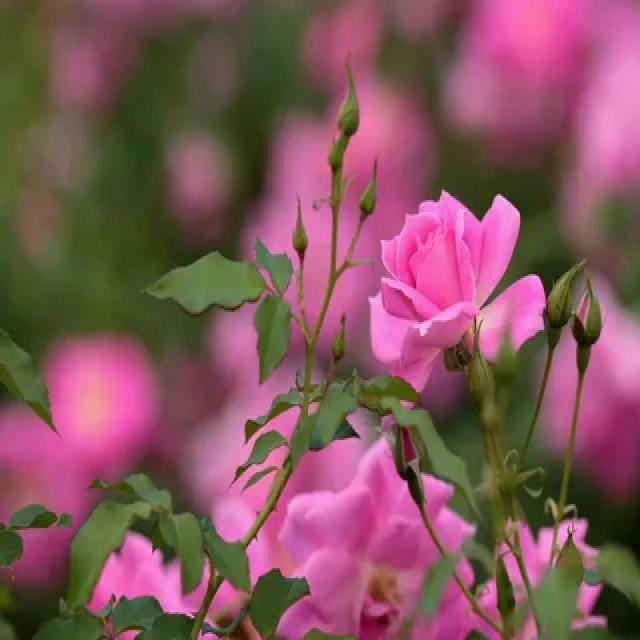rose: (357, 169, 525, 391)
